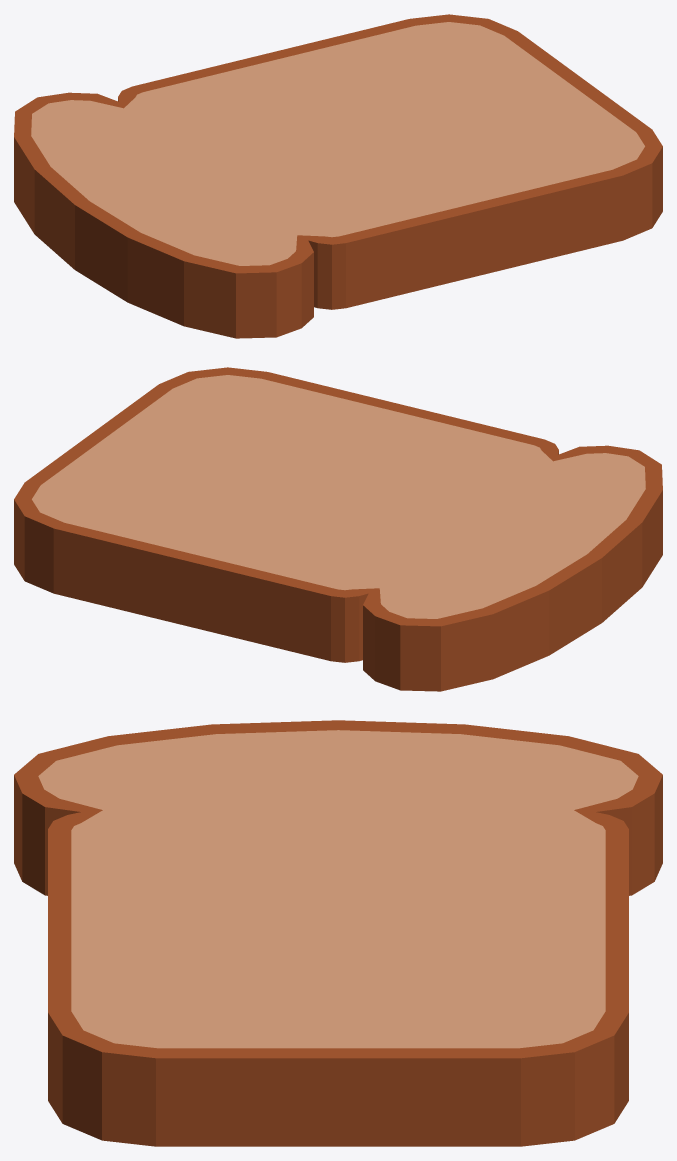
Rendered from Bread.fbx.
The picture shows the model from 3 angles, top to bottom: view 1: azimuth 30°, elevation 25°; view 2: azimuth 150°, elevation 25°; view 3: azimuth 270°, elevation 25°; orthographic projection. The views are drawn at different scales.
Parts seen in each view (by area): view 1: Bread; view 2: Bread; view 3: Bread.
Boxes of the visible parts, x1,y1,x2,y2 form: Bread: (14, 14, 662, 338); Bread: (14, 367, 662, 691); Bread: (14, 720, 662, 1146).
Size of the model in its own units: 275 by 33.6 by 223.
